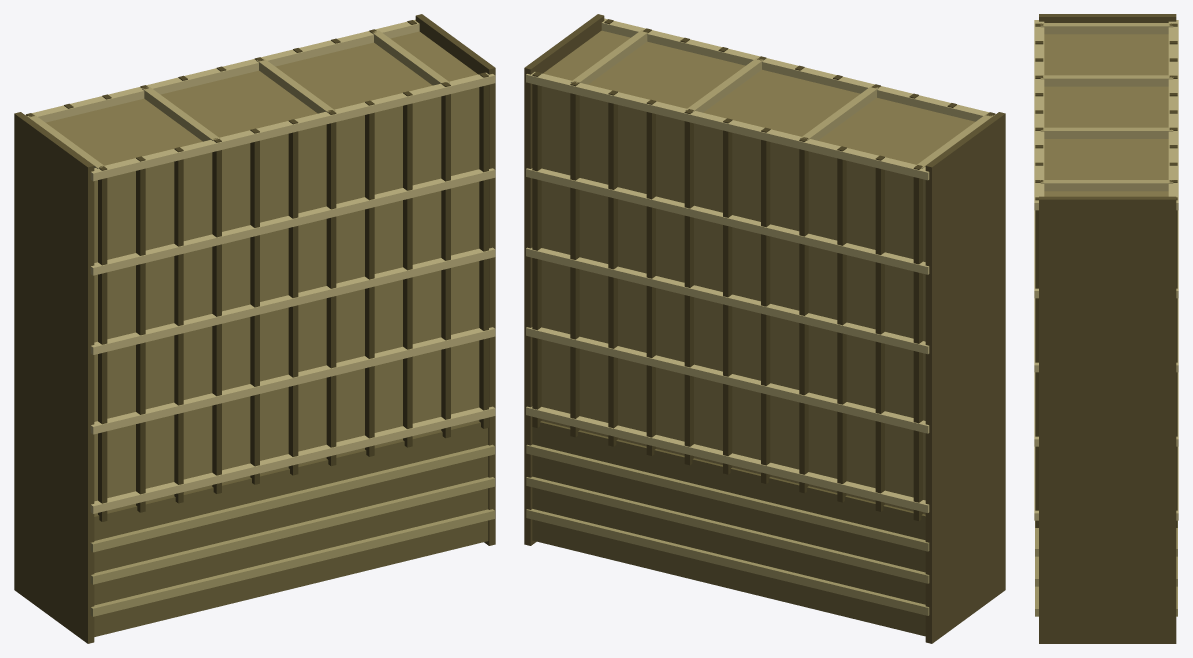
Rendered from CMU3DHESCOBasketBarrier.glb.
3 renders of one model, left to right at view 1: azimuth 30°, elevation 25°; view 2: azimuth 150°, elevation 25°; view 3: azimuth 270°, elevation 25°, orthographic. The views are drawn at different scales.
Visible parts, largest first — view 1: sand-filled basket, basket reinforced end (×2), lower woven skirt, vertical basket wire (×11), horizontal basket wire (×6), lower woven band (×3), wire over basket top (×3); view 2: sand-filled basket, basket reinforced end (×2), lower woven skirt, vertical basket wire (×11), horizontal basket wire (×6), lower woven band (×3), wire over basket top (×3); view 3: basket reinforced end (×2), sand-filled basket, wire over basket top (×4), horizontal basket wire (×2), vertical basket wire (×2).
Part boxes in pixels (left/top/right/bottom): sand-filled basket: left=46, top=31, right=479, bottom=515; basket reinforced end (×2): left=14, top=14, right=495, bottom=643; lower woven skirt: left=94, top=421, right=488, bottom=636; vertical basket wire (×11): left=98, top=72, right=488, bottom=521; horizontal basket wire (×6): left=25, top=19, right=495, bottom=513; lower woven band (×3): left=90, top=444, right=494, bottom=616; wire over basket top (×3): left=142, top=30, right=449, bottom=141; sand-filled basket: left=541, top=30, right=975, bottom=514; basket reinforced end (×2): left=524, top=14, right=1005, bottom=643; lower woven skirt: left=532, top=421, right=925, bottom=636; vertical basket wire (×11): left=532, top=71, right=922, bottom=520; horizontal basket wire (×6): left=526, top=18, right=995, bottom=512; lower woven band (×3): left=526, top=444, right=929, bottom=615; wire over basket top (×3): left=570, top=30, right=878, bottom=140; basket reinforced end (×2): left=1039, top=14, right=1176, bottom=643; sand-filled basket: left=1044, top=34, right=1168, bottom=196; wire over basket top (×4): left=1040, top=23, right=1173, bottom=191; horizontal basket wire (×2): left=1034, top=20, right=1178, bottom=210; vertical basket wire (×2): left=1035, top=197, right=1177, bottom=527.
Size of the model in its own units: 0.994 by 1.11 by 0.326.
